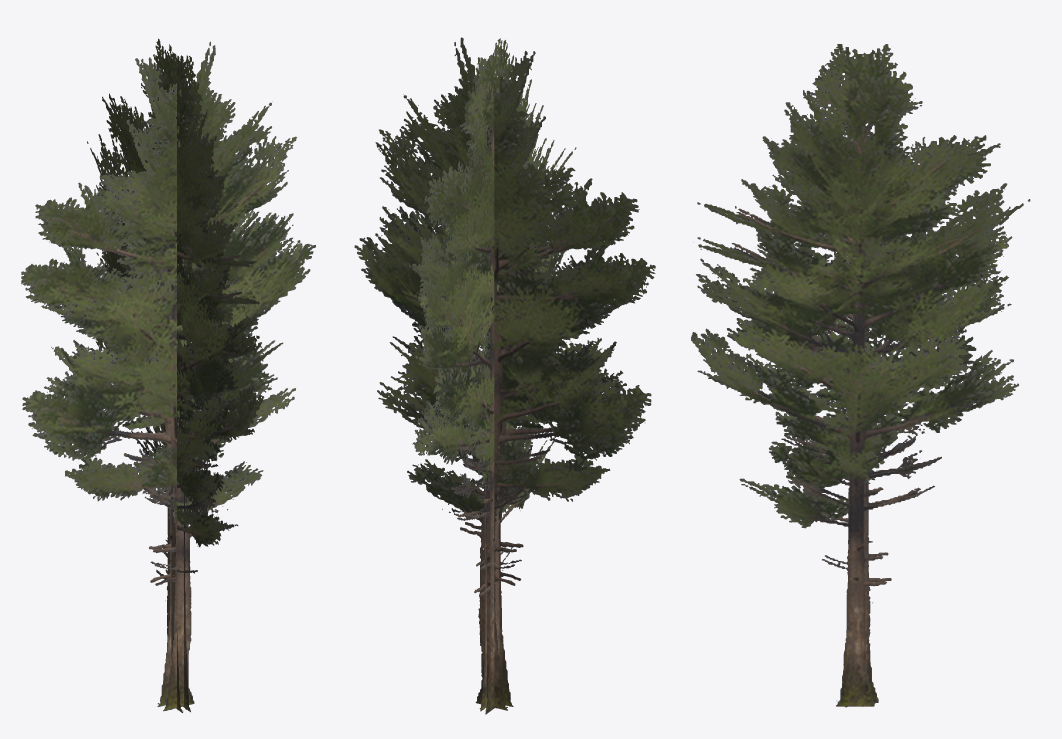
Rendered from Billboard_Pine_01.fbx.
The picture shows the model from 3 angles, left to right: view 1: azimuth 30°, elevation 25°; view 2: azimuth 150°, elevation 25°; view 3: azimuth 270°, elevation 25°; orthographic projection.
Parts seen in each view (by area): view 1: Billboard_Pine_01; view 2: Billboard_Pine_01; view 3: Billboard_Pine_01.
Boxes of the visible parts, box(x1,y1,x2,y2) form: Billboard_Pine_01: box(21, 38, 315, 712); Billboard_Pine_01: box(354, 37, 655, 714); Billboard_Pine_01: box(691, 44, 1030, 707).
Size of the model in its own units: 444 by 919 by 443.
